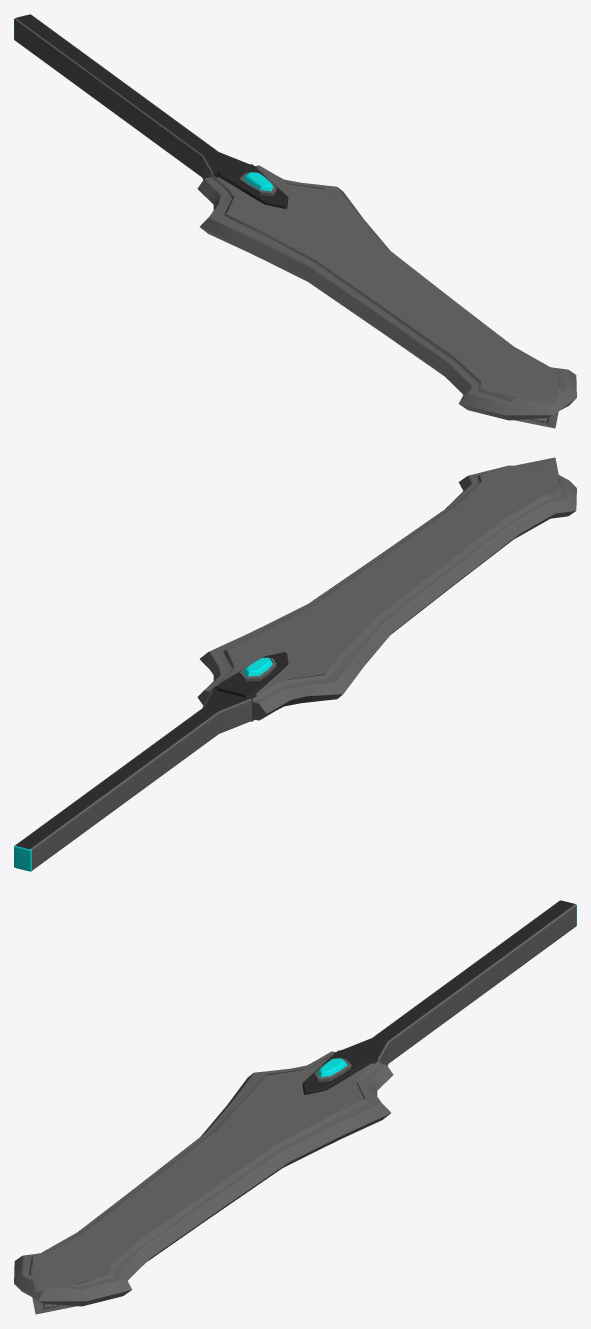
File: SM_Sword_Small_V6.fbx
The picture shows the model from 3 angles, top to bottom: view 1: azimuth 30°, elevation 25°; view 2: azimuth 150°, elevation 25°; view 3: azimuth 330°, elevation 25°; orthographic projection.
Visible parts, largest first — view 1: SM_Sword_Small_Blade_V6; view 2: SM_Sword_Small_Blade_V6; view 3: SM_Sword_Small_Blade_V6.
Boxes of the visible parts, x1,y1,x2,y2 form: SM_Sword_Small_Blade_V6: (14, 14, 576, 428); SM_Sword_Small_Blade_V6: (14, 457, 576, 871); SM_Sword_Small_Blade_V6: (14, 900, 576, 1314).
Bounding box in the file's own units: 13.01 × 3.73 × 83.39.
